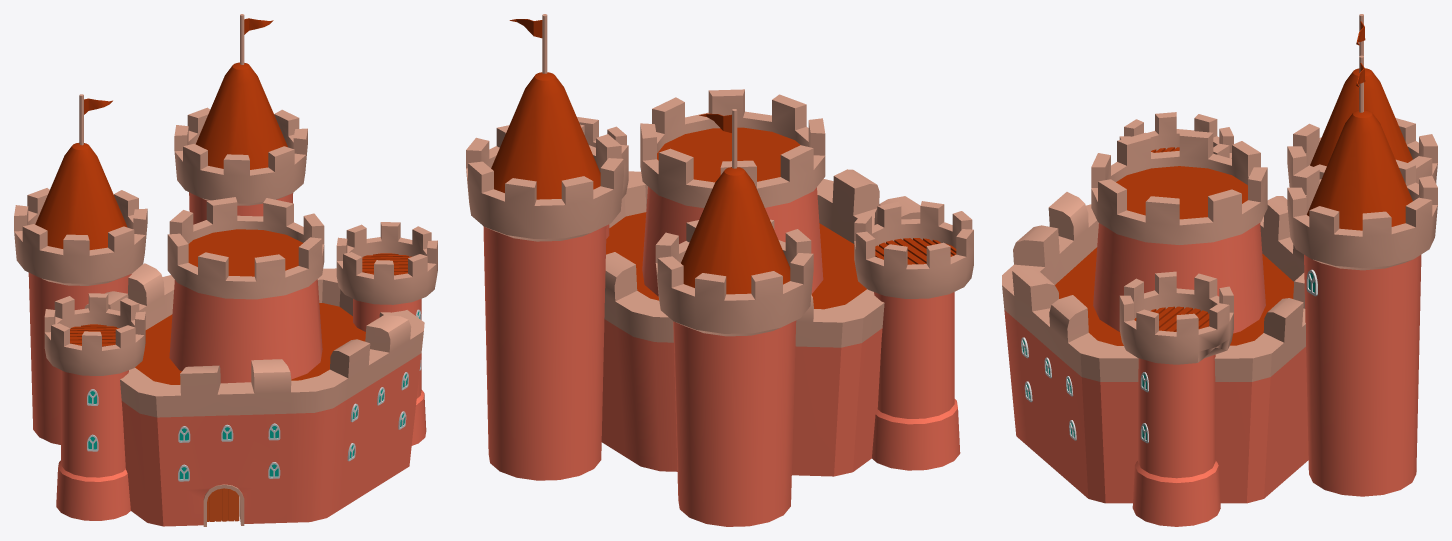
3 renders of one model, left to right at view 1: azimuth 30°, elevation 25°; view 2: azimuth 150°, elevation 25°; view 3: azimuth 270°, elevation 25°, orthographic. The views are drawn at different scales.
Parts seen in each view (by area): view 1: Big_Castle_Stage1; view 2: Big_Castle_Stage1; view 3: Big_Castle_Stage1.
Part boxes in pixels (bbox=[...]): Big_Castle_Stage1: bbox=[14, 14, 437, 526]; Big_Castle_Stage1: bbox=[466, 14, 973, 526]; Big_Castle_Stage1: bbox=[1002, 14, 1437, 526].
Bounding box in the file's own units: 962 × 904 × 853.
